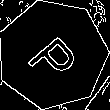P_NE: (21, 24, 84, 85)
